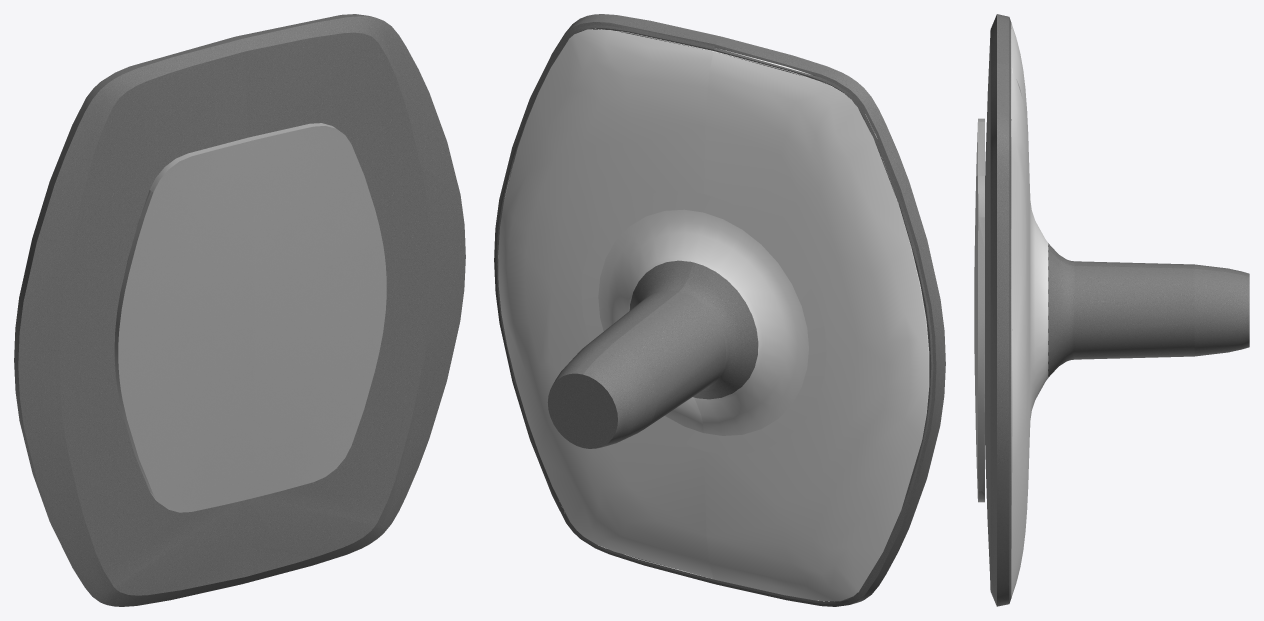
The picture shows the model from 3 angles, left to right: view 1: azimuth 30°, elevation 25°; view 2: azimuth 150°, elevation 25°; view 3: azimuth 270°, elevation 25°; orthographic projection. The views are drawn at different scales.
Visible parts, largest first — view 1: Siteco_DL_30_5XA5132T1B08A3; view 2: Siteco_DL_30_5XA5132T1B08A3; view 3: Siteco_DL_30_5XA5132T1B08A3.
Boxes of the visible parts, x1=… form: Siteco_DL_30_5XA5132T1B08A3: x1=14, y1=14, x2=465, y2=606; Siteco_DL_30_5XA5132T1B08A3: x1=494, y1=14, x2=945, y2=606; Siteco_DL_30_5XA5132T1B08A3: x1=974, y1=14, x2=1249, y2=606.
Size of the model in its own units: 0.5097 by 0.5935 by 0.2992.
3 materials, 3 textured.
